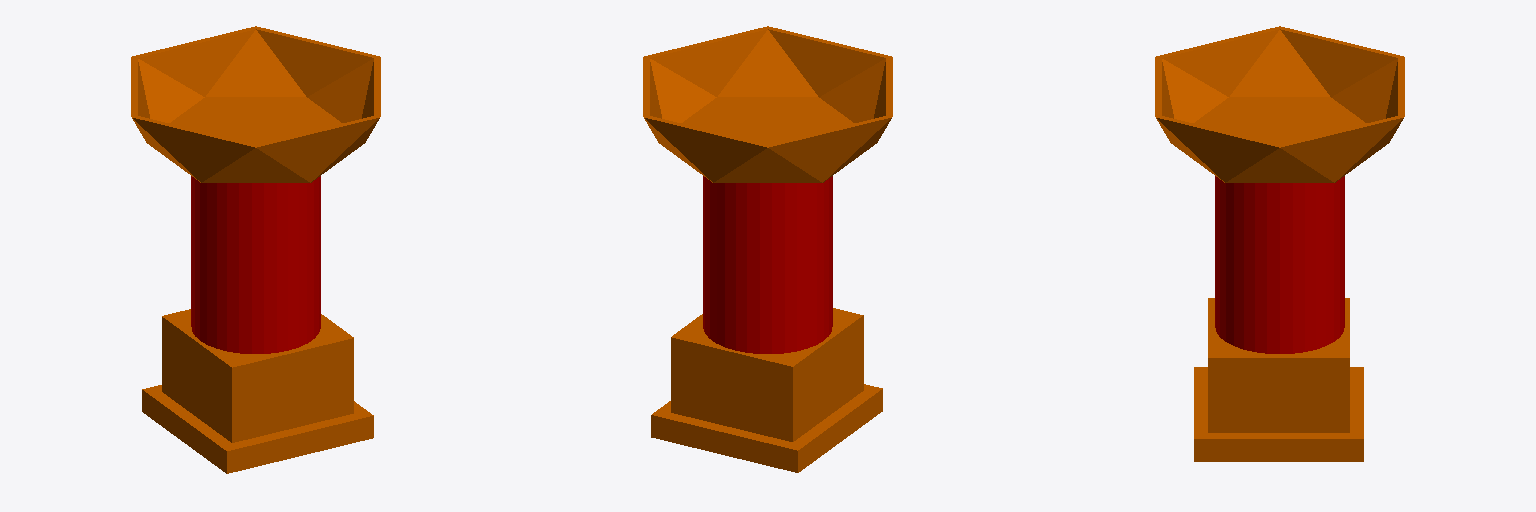
The model's file is bowl.obj.
The picture shows the model from 3 angles: view 1: azimuth 30°, elevation 25°; view 2: azimuth 150°, elevation 25°; view 3: azimuth 270°, elevation 25°; orthographic projection.
Visible parts, largest first — view 1: n_bowl, Cylinder.001, Cube.001, Cube.010; view 2: n_bowl, Cylinder.001, Cube.001, Cube.010; view 3: n_bowl, Cylinder.001, Cube.001, Cube.010.
Part boxes in pixels (x1,y1,x2,y2): n_bowl: (131,26,380,182); Cylinder.001: (191,176,320,353); Cube.001: (162,309,353,442); Cube.010: (142,385,373,473); n_bowl: (643,26,892,182); Cylinder.001: (703,176,832,353); Cube.001: (671,308,863,441); Cube.010: (651,384,882,472); n_bowl: (1155,26,1404,182); Cylinder.001: (1215,176,1344,353); Cube.001: (1208,298,1349,432); Cube.010: (1194,367,1363,461).
Bounding box in the file's own units: 6.1 × 7.91 × 5.28.